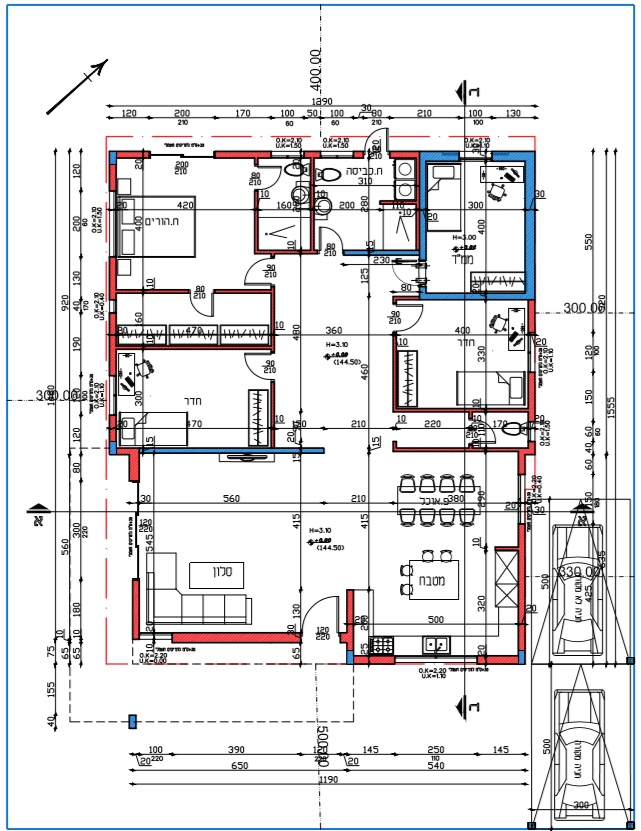door: (300, 595, 340, 625), (239, 350, 269, 384), (239, 256, 269, 288), (399, 301, 428, 332), (258, 161, 285, 191), (187, 299, 220, 321), (317, 224, 346, 242)
wall: (174, 634, 294, 640), (157, 448, 298, 452), (526, 213, 532, 294), (519, 526, 524, 616), (129, 449, 138, 480), (529, 373, 534, 419), (420, 152, 424, 207), (422, 293, 457, 298), (216, 152, 265, 155)
